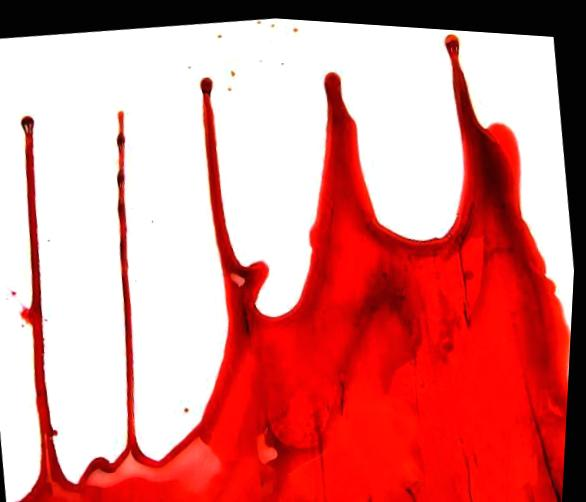Fire: (22, 30, 572, 502)
